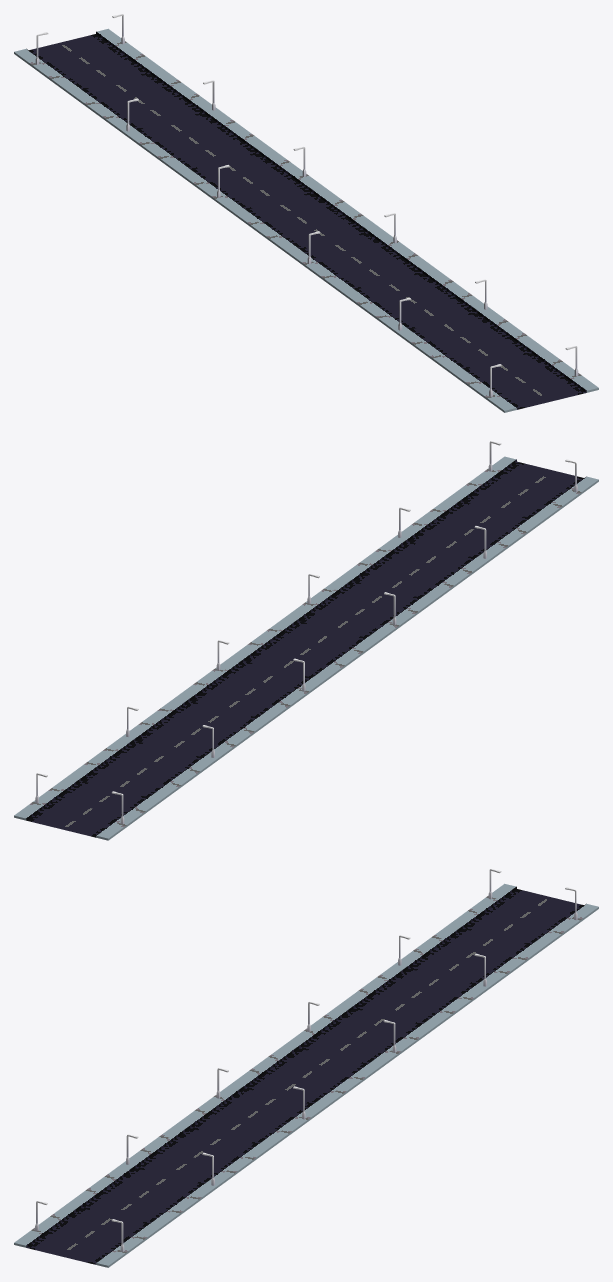
The model's file is PrototypeScene.fbx.
3 views of the same model, one above another, from view 1: azimuth 30°, elevation 25°; view 2: azimuth 150°, elevation 25°; view 3: azimuth 330°, elevation 25° (orthographic).
Parts seen in each view (by area): view 1: Road, light-square, light-square-colonly.002; view 2: Road, light-square, light-square-colonly.002; view 3: Road, light-square, light-square-colonly.002.
Boxes of the visible parts, x1,y1,x2,y2 form: Road: (14,28,598,412); light-square: (35,32,501,396); light-square-colonly.002: (112,14,578,376); Road: (14,456,598,840); light-square: (111,459,577,824); light-square-colonly.002: (35,441,501,803); Road: (14,883,598,1267); light-square: (35,869,501,1231); light-square-colonly.002: (111,887,577,1252).
Bounding box in the file's own units: 200 × 64 × 1800.
